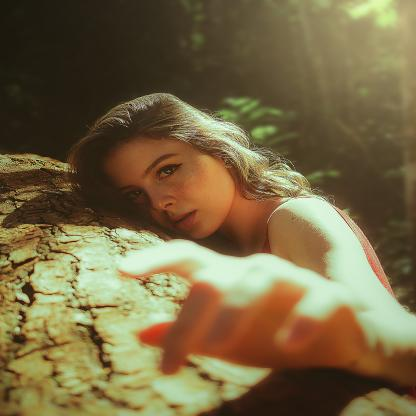Eye: (156, 163, 183, 183), (123, 189, 144, 202)
Mouth: (169, 209, 197, 231)
Nose: (145, 188, 178, 212)
